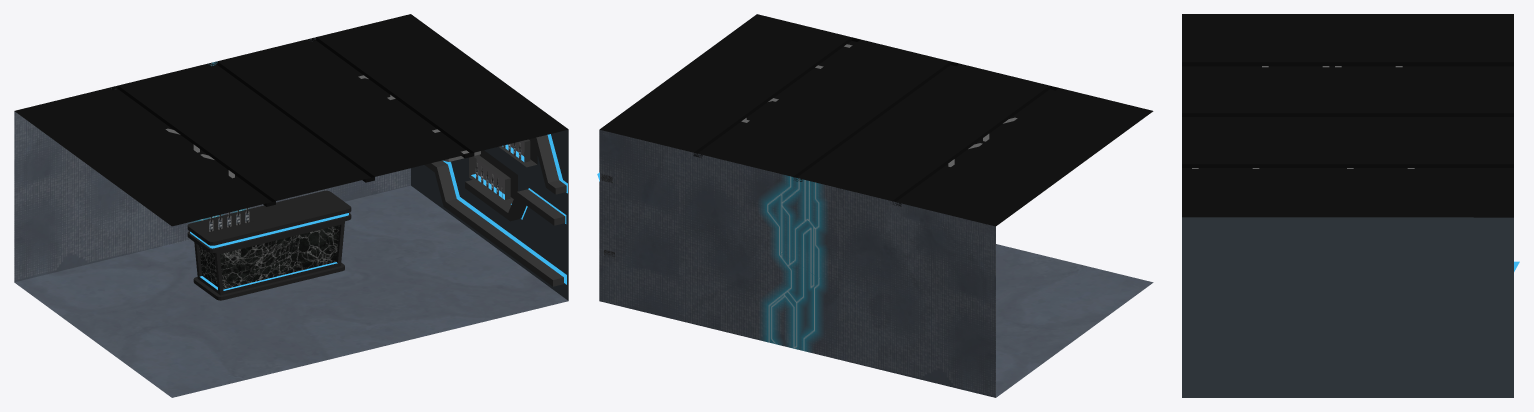
Rendered from som-chat-room.glb.
3 renders of one model, left to right at view 1: azimuth 30°, elevation 25°; view 2: azimuth 150°, elevation 25°; view 3: azimuth 270°, elevation 25°, orthographic. The views are drawn at different scales.
Parts seen in each view (by area): view 1: Plane.001, Plane.012, Plane.010, Plane.002, Plane.004, Plane.009, Plane.007, Plane.003, Plane.019, Plane.008; view 2: Plane.001, Plane.012; view 3: Plane.012, Plane.002.
Boxes of the visible parts, left/top/right/bottom form: Plane.001: left=14, top=37, right=568, bottom=397; Plane.012: left=14, top=14, right=568, bottom=226; Plane.010: left=187, top=190, right=351, bottom=300; Plane.002: left=411, top=112, right=568, bottom=300; Plane.004: left=425, top=160, right=563, bottom=286; Plane.009: left=465, top=180, right=565, bottom=225; Plane.007: left=469, top=150, right=517, bottom=204; Plane.003: left=533, top=135, right=566, bottom=194; Plane.019: left=443, top=160, right=566, bottom=284; Plane.008: left=499, top=138, right=537, bottom=167; Plane.001: left=599, top=129, right=1153, bottom=397; Plane.012: left=600, top=14, right=1153, bottom=226; Plane.012: left=1182, top=14, right=1513, bottom=217; Plane.002: left=1182, top=217, right=1513, bottom=397.
Size of the model in its own units: 7.25 by 3 by 5.09.
10 materials, 3 textured.
